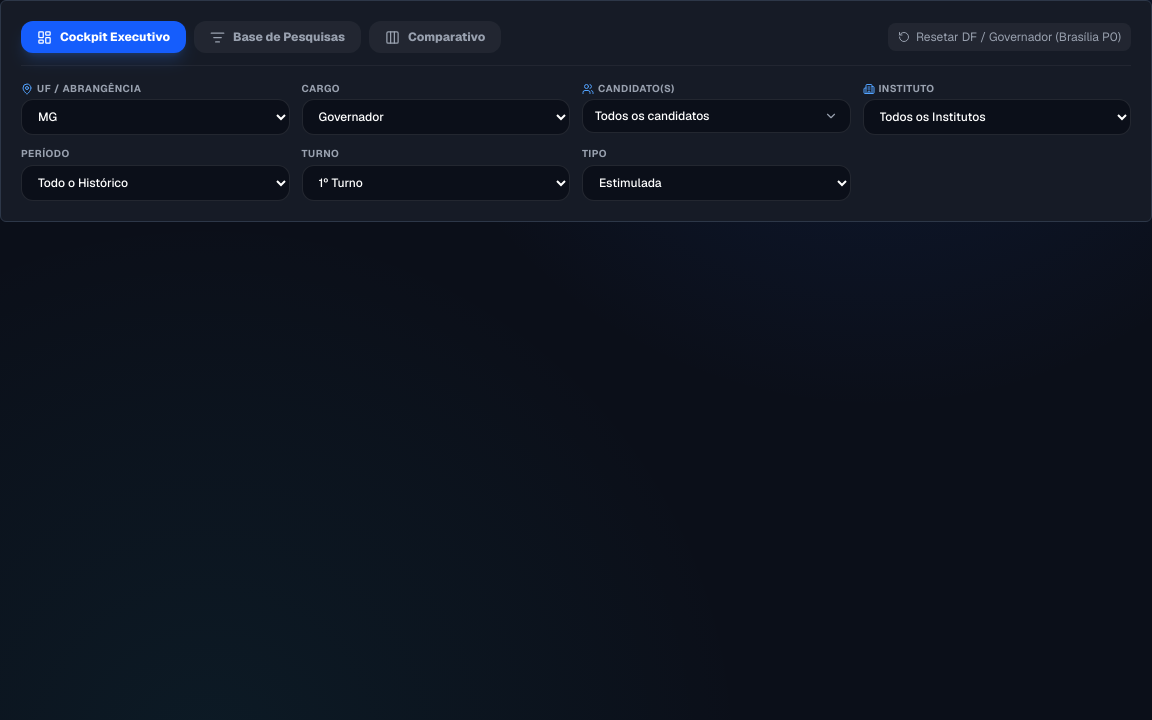
it: PesquisasFilterBar — dropdown de candidatos (P0.2 da auditoria) › fecha ao pressionar Escape
Click the button "Todos os candidatos": (652, 116) [582,99,850,133]
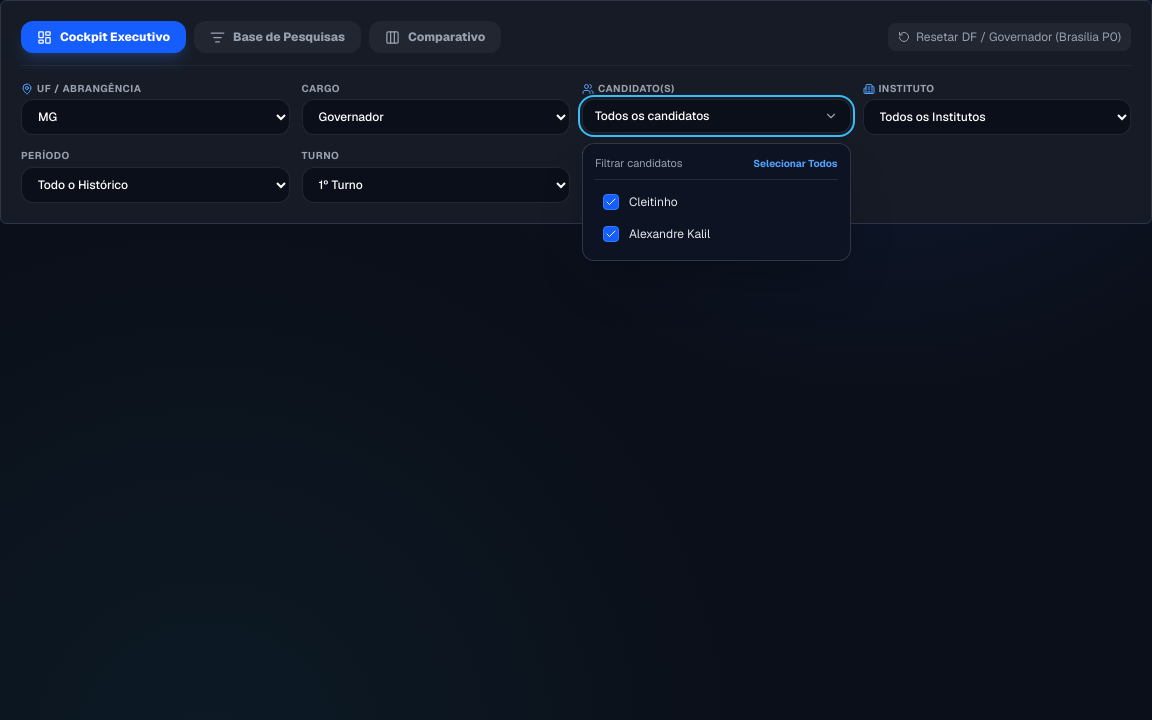
Result: the list is shown at [582,143,850,261]
Press Escape
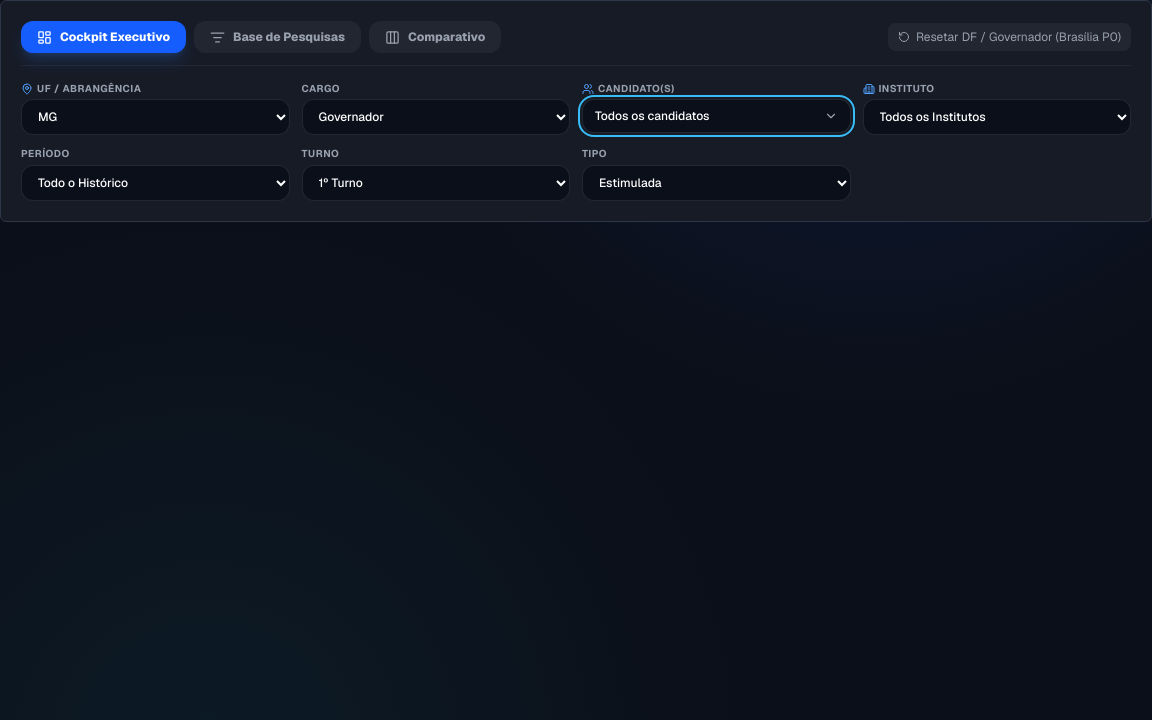
Result: the list is gone
